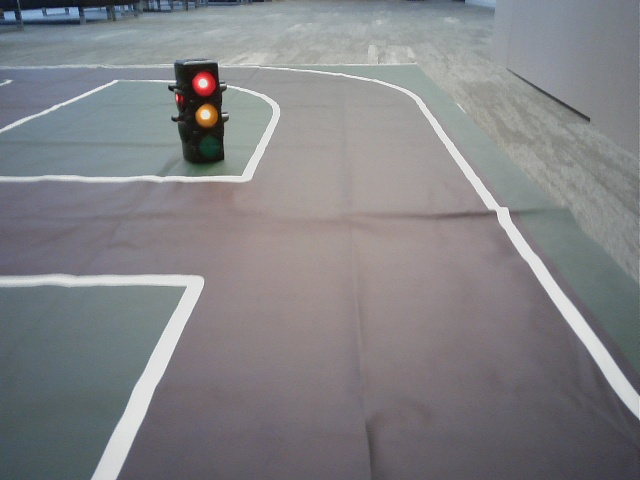red: (188, 69, 223, 161)
